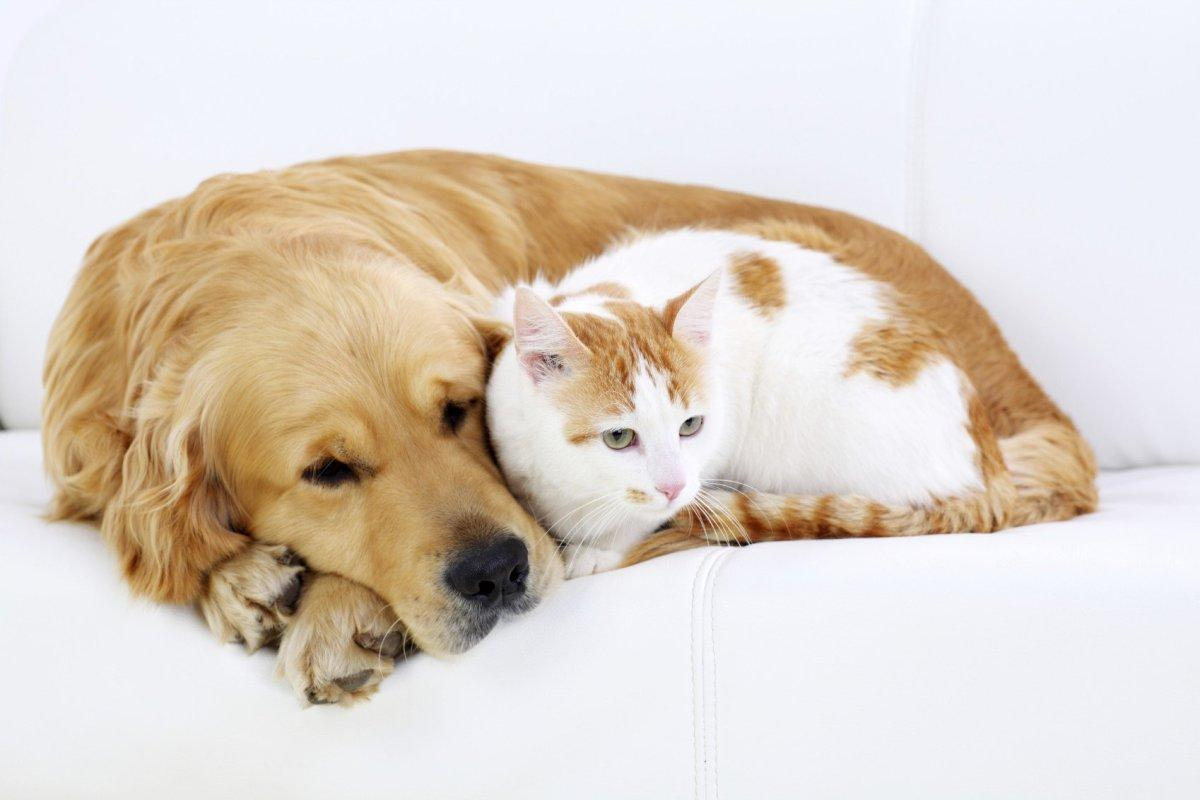animals: (21, 134, 538, 675), (500, 224, 1000, 589)
